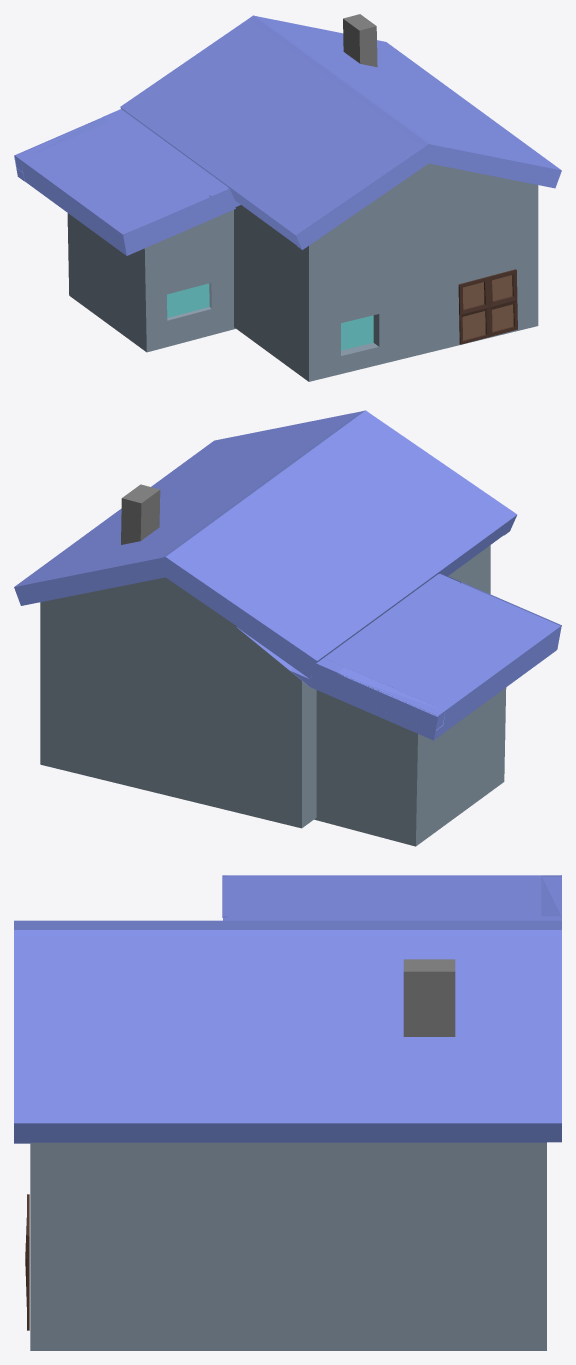
Rendered from MediumHouse.fbx.
3 views of the same model, one above another, from view 1: azimuth 30°, elevation 25°; view 2: azimuth 150°, elevation 25°; view 3: azimuth 270°, elevation 25° (orthographic). The views are drawn at different scales.
Parts seen in each view (by area): view 1: Cube, Cube.002, Plane, Cube.001; view 2: Cube, Cube.002, Cube.001; view 3: Cube, Cube.002, Cube.001.
Boxes of the visible parts, x1,y1,x2,y2 form: Cube: (120,15,561,381); Cube.002: (14,109,240,352); Plane: (458,269,517,344); Cube.001: (343,14,377,67); Cube: (14,410,517,828); Cube.002: (236,573,561,846); Cube.001: (121,484,160,544); Cube: (14,920,561,1350); Cube.002: (222,875,561,920); Cube.001: (403,959,455,1036).
Size of the model in its own units: 1298 by 755 by 1061.
